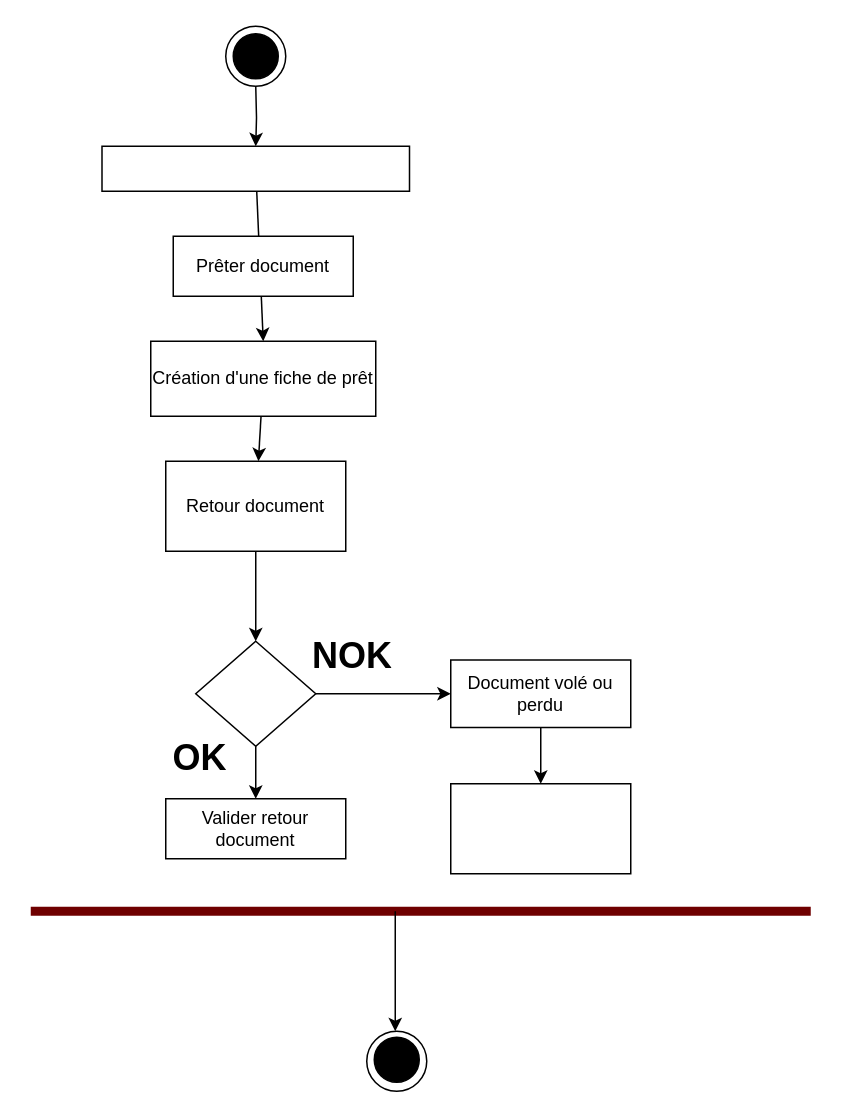
Some shapes in this 842 by 1118 pixel diagram are drawn without their labels. The box of each missing label's shape, as (x1, y1, x2, y2) in pixels:
Enregistrer nouveau document: (100, 145, 410, 191)
Mise hors service du document: (449, 782, 631, 874)
